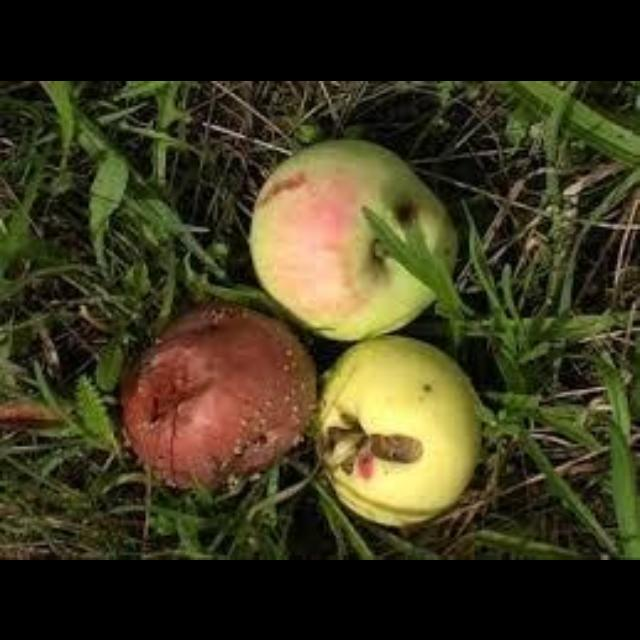apple: (250, 137, 457, 337), (121, 300, 316, 485), (316, 335, 479, 525)
rotten: (121, 300, 316, 485)
